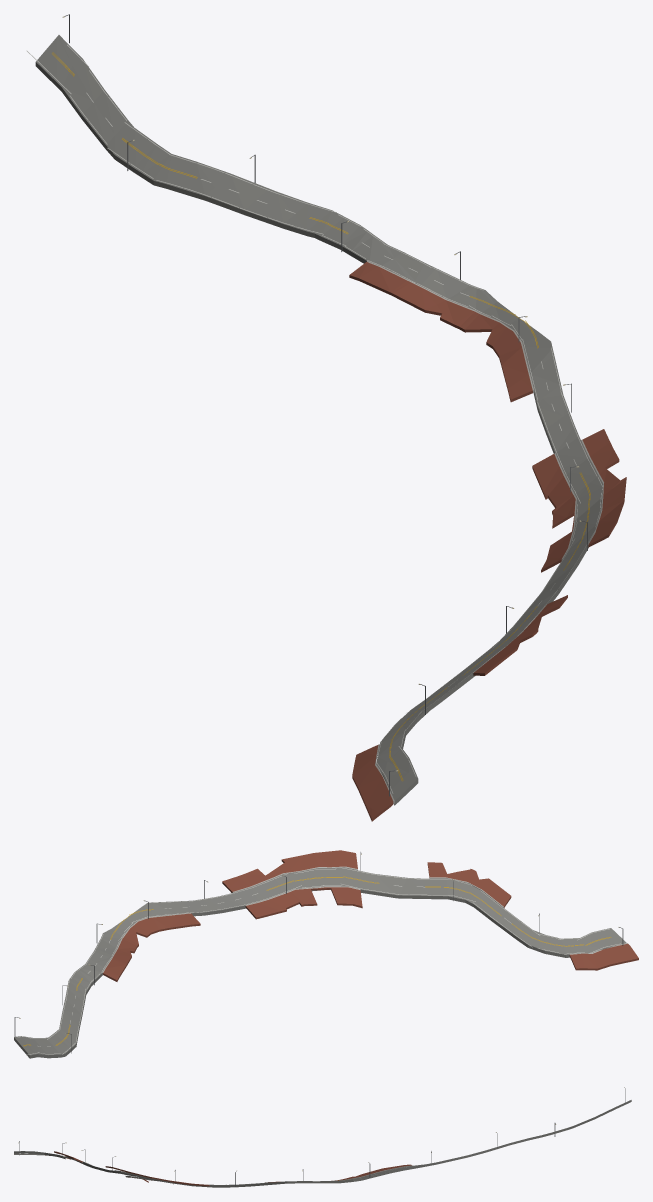
3 views of the same model, one above another, from view 1: azimuth 30°, elevation 25°; view 2: azimuth 150°, elevation 25°; view 3: azimuth 270°, elevation 25° (orthographic). The views are drawn at different scales.
Size of the model in its own units: 123 by 74.82 by 295.
